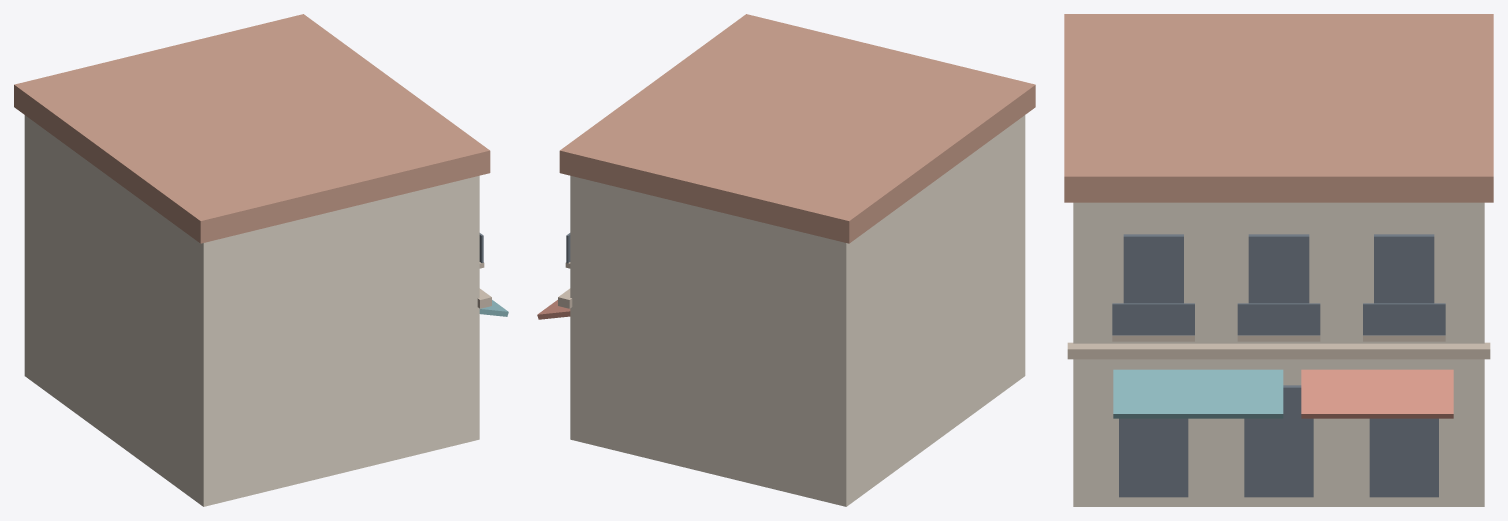
Rendered from colonial_townhouse.glb.
3 views of the same model, side by side, from view 1: azimuth 30°, elevation 25°; view 2: azimuth 150°, elevation 25°; view 3: azimuth 270°, elevation 25° (orthographic). The views are drawn at different scales.
Visible parts, largest first — view 1: colonial_townhouse; view 2: colonial_townhouse; view 3: colonial_townhouse.
Part boxes in pixels (<box>): colonial_townhouse: <box>14,14,508,506</box>; colonial_townhouse: <box>537,14,1035,506</box>; colonial_townhouse: <box>1064,14,1493,506</box>.
Size of the model in its own units: 9.79 by 8.24 by 9.6.
